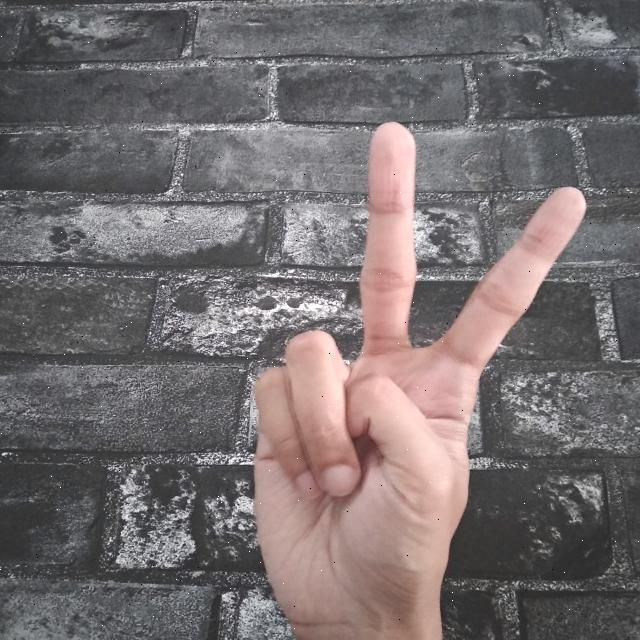V: (247, 110, 586, 640)
